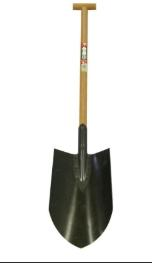PELLE: (42, 0, 152, 263)
